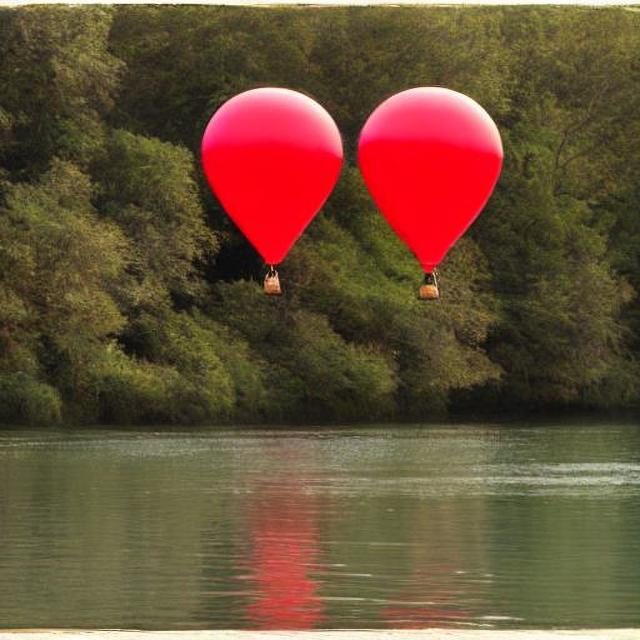balloon: (348, 88, 502, 293), (192, 84, 346, 278)
